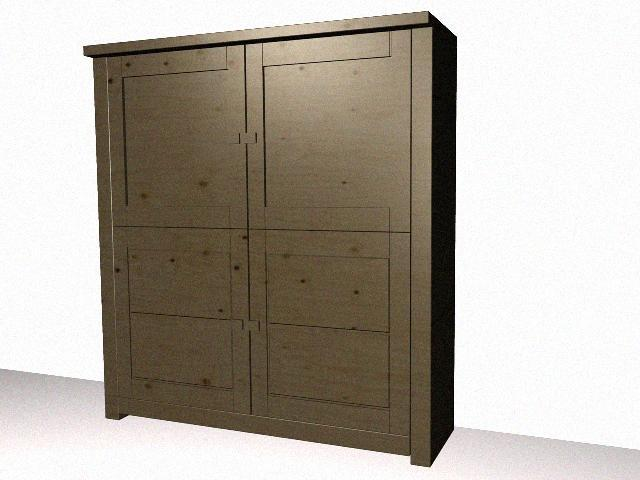cabinet_door: (246, 37, 411, 230), (250, 230, 410, 426), (116, 227, 250, 406), (110, 53, 246, 228)
handle: (229, 316, 246, 335), (226, 129, 243, 146), (247, 317, 263, 335), (246, 129, 260, 146)
